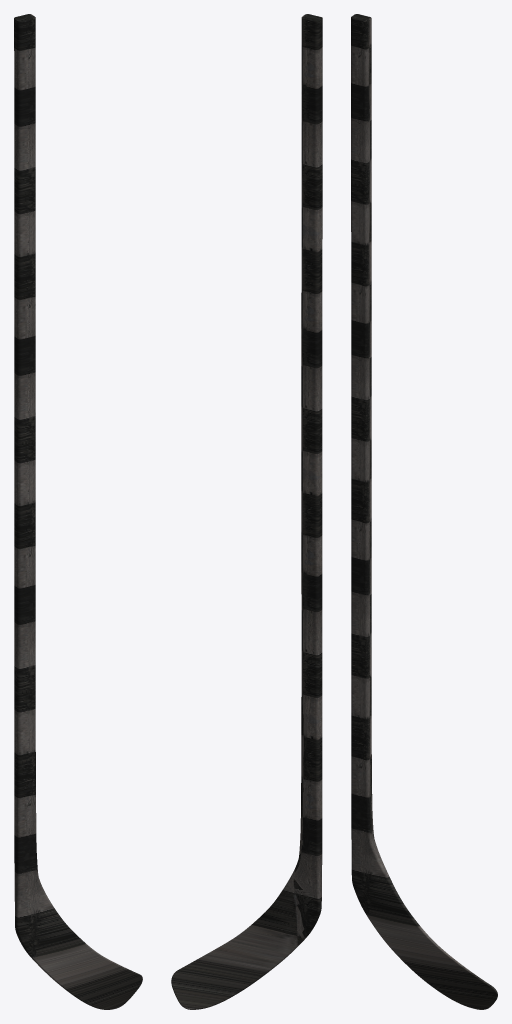
The picture shows the model from 3 angles, left to right: view 1: azimuth 30°, elevation 25°; view 2: azimuth 150°, elevation 25°; view 3: azimuth 330°, elevation 25°; orthographic projection. The views are drawn at different scales.
Visible parts, largest first — view 1: geometry_0; view 2: geometry_0; view 3: geometry_0.
Part boxes in pixels (x1=…): geometry_0: x1=14, y1=14, x2=142, y2=1009; geometry_0: x1=171, y1=14, x2=322, y2=1009; geometry_0: x1=351, y1=14, x2=497, y2=1009.
Size of the model in its own units: 234 by 1650 by 58.39.
1 material, 1 textured.
